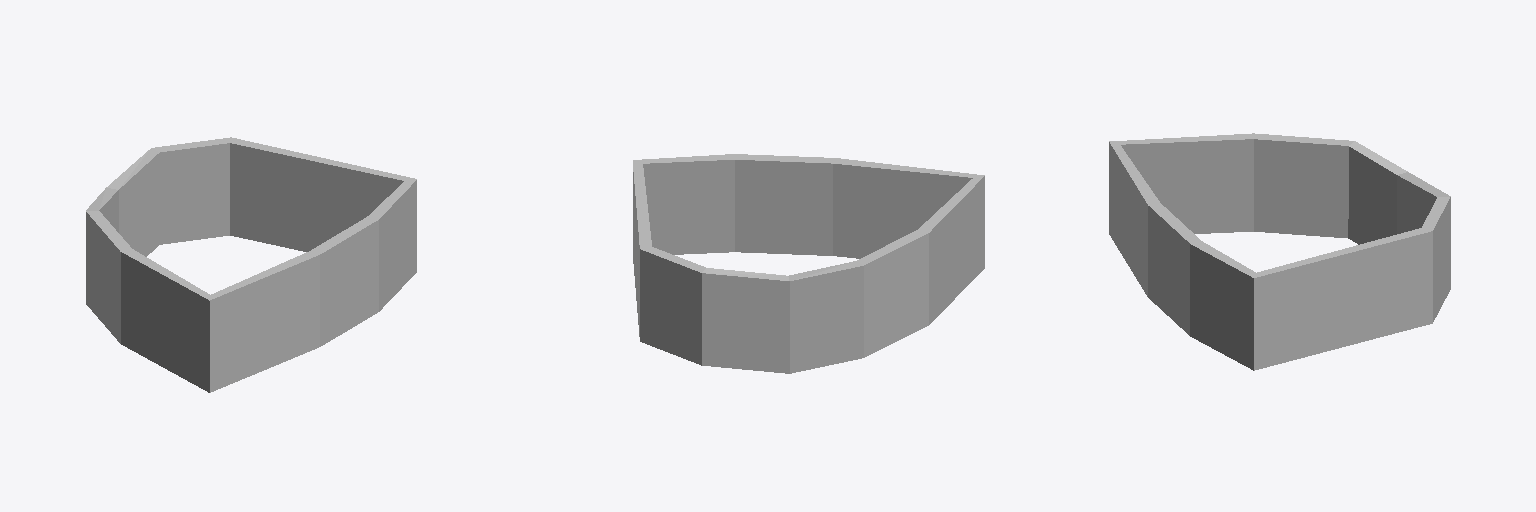
Rendered from test_gate1.obj.
The picture shows the model from 3 angles: view 1: azimuth 30°, elevation 25°; view 2: azimuth 150°, elevation 25°; view 3: azimuth 270°, elevation 25°; orthographic projection.
Parts seen in each view (by area): view 1: Cylinder; view 2: Cylinder; view 3: Cylinder.
Part boxes in pixels (x1,y1,x2,y2): Cylinder: (86, 137, 416, 392); Cylinder: (633, 154, 984, 373); Cylinder: (1109, 133, 1450, 370).
Bounding box in the file's own units: 2.52 × 0.8128 × 2.51.